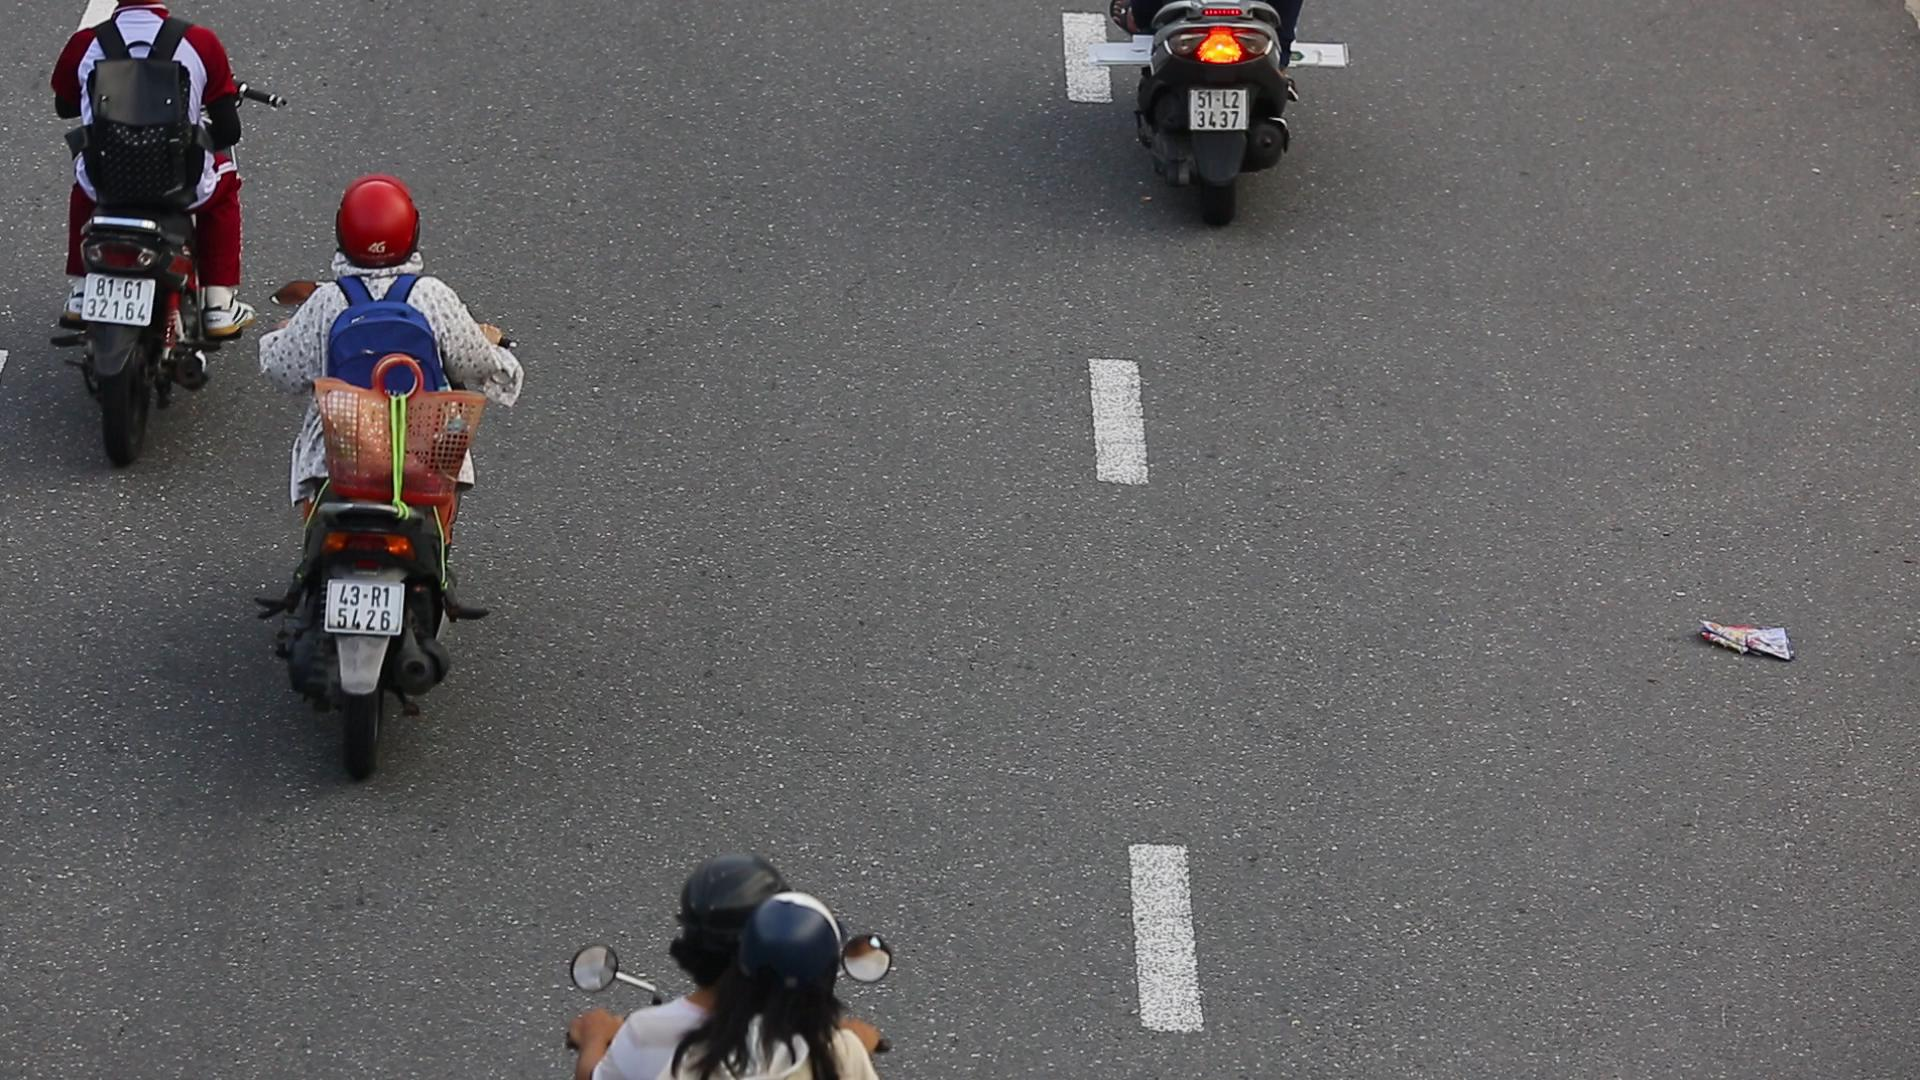motobike: (258, 167, 531, 783)
